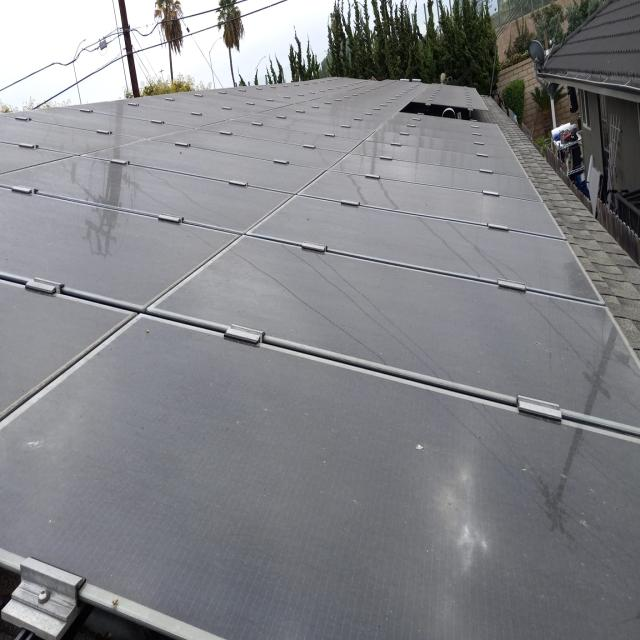dust-solar-panel: (0, 75, 640, 640)
